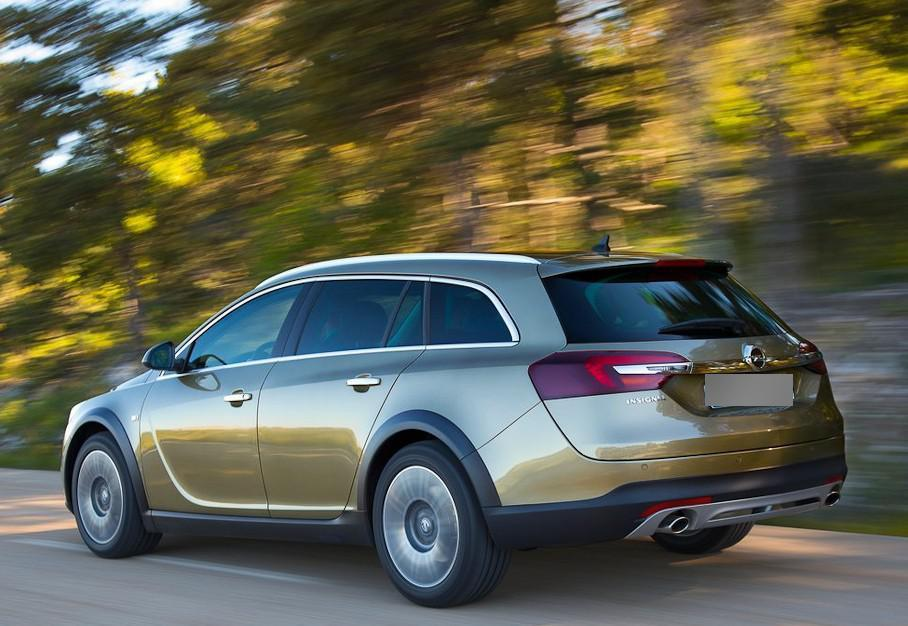Wagon: (60, 251, 848, 607)
